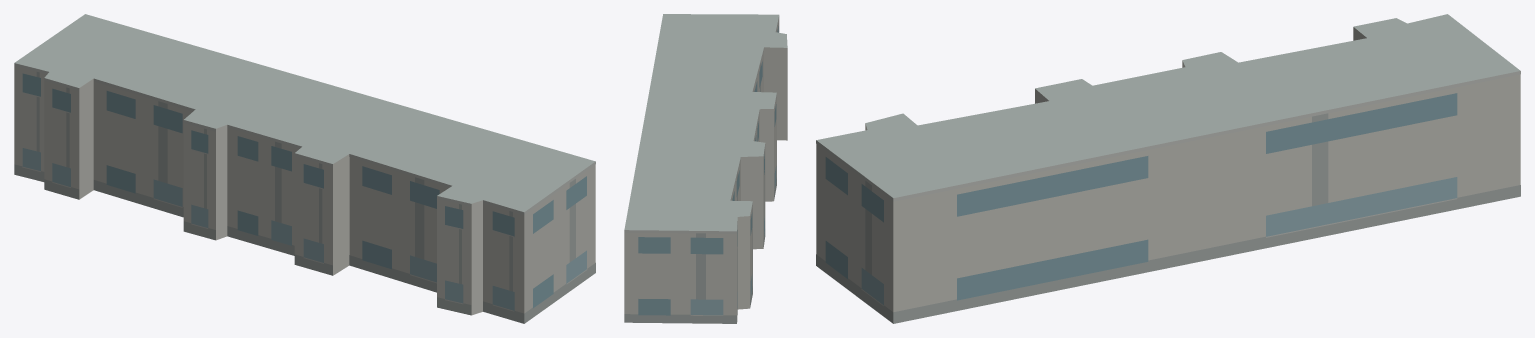
Rendered from survey-upis-32775083.glb.
The picture shows the model from 3 angles, left to right: view 1: azimuth 30°, elevation 25°; view 2: azimuth 150°, elevation 25°; view 3: azimuth 270°, elevation 25°; orthographic projection. The views are drawn at different scales.
Parts seen in each view (by area): view 1: survey-upis-32775083.tmp; view 2: survey-upis-32775083.tmp; view 3: survey-upis-32775083.tmp.
Part boxes in pixels (box(x1,y1,x2,y2)): survey-upis-32775083.tmp: box(14, 14, 595, 323); survey-upis-32775083.tmp: box(624, 14, 787, 323); survey-upis-32775083.tmp: box(816, 14, 1520, 323).
Bounding box in the file's own units: 28.77 × 9.15 × 46.5.
